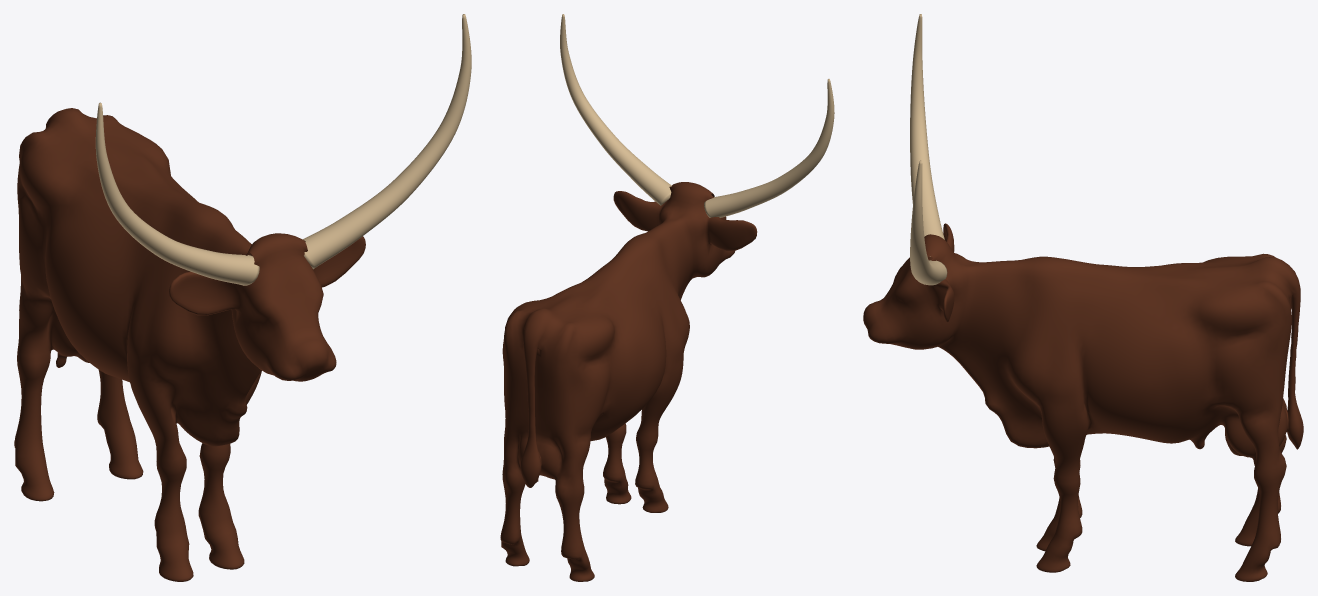
File: toro.glb
3 views of the same model, side by side, from view 1: azimuth 30°, elevation 25°; view 2: azimuth 150°, elevation 25°; view 3: azimuth 270°, elevation 25° (orthographic). The views are drawn at different scales.
Parts seen in each view (by area): view 1: model, Horn_R, Horn_L; view 2: model, Horn_R, Horn_L; view 3: model, Horn_L, Horn_R.
Boxes of the visible parts, x1,y1,x2,y2 form: model: [14, 108, 365, 581]; Horn_R: [303, 14, 471, 269]; Horn_L: [95, 102, 259, 285]; model: [500, 182, 757, 581]; Horn_R: [560, 14, 671, 205]; Horn_L: [704, 79, 834, 217]; model: [863, 223, 1303, 581]; Horn_L: [910, 14, 944, 256]; Horn_R: [910, 160, 947, 285].
Size of the model in its own units: 1.2 by 1.74 by 1.47.
